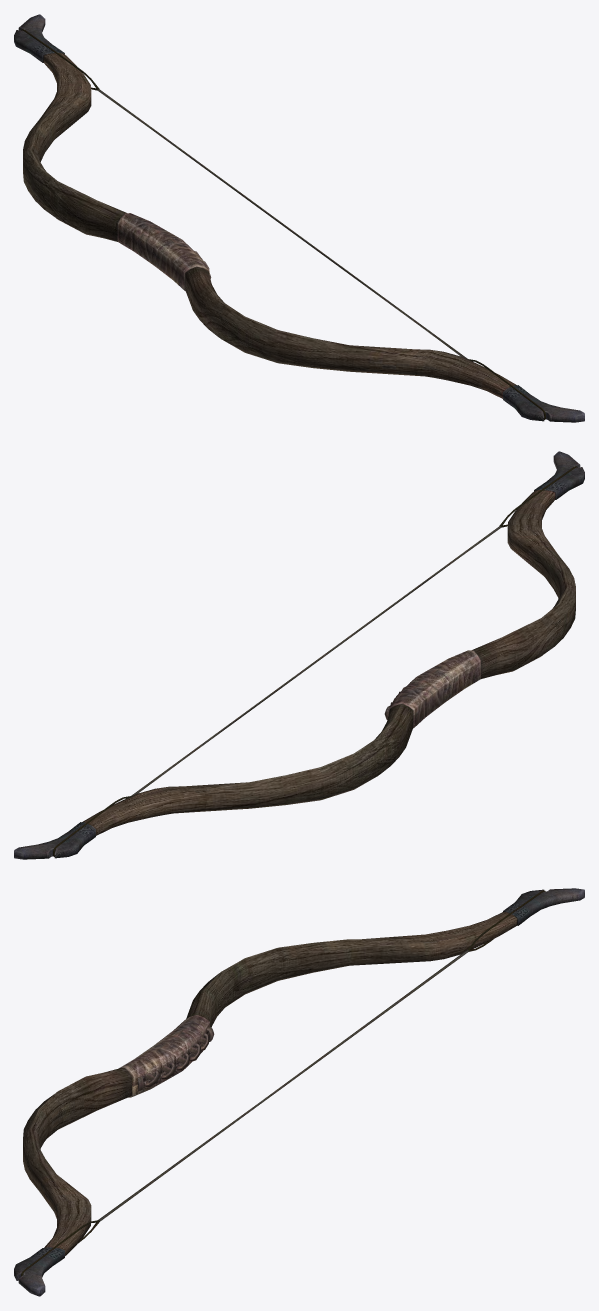
File: steel-longbow.glb
3 renders of one model, top to bottom at view 1: azimuth 30°, elevation 25°; view 2: azimuth 150°, elevation 25°; view 3: azimuth 330°, elevation 25°, orthographic.
Parts seen in each view (by area): view 1: BowMesh:0; view 2: BowMesh:0; view 3: BowMesh:0.
Boxes of the visible parts, box(x1,y1,x2,y2) form: BowMesh:0: box(14, 14, 584, 422); BowMesh:0: box(14, 451, 584, 859); BowMesh:0: box(14, 888, 584, 1296).
Size of the model in its own units: 0.307 by 0.0641 by 1.6.
1 material, 1 textured.
